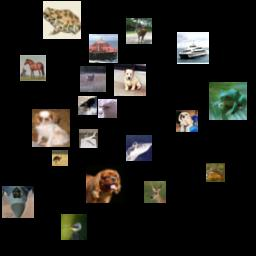airplane: (2, 186, 34, 218), (79, 129, 98, 148)
bird: (61, 214, 87, 240), (98, 99, 117, 118), (52, 150, 68, 166)
deer: (126, 18, 152, 44), (80, 66, 106, 92), (144, 181, 166, 203), (78, 96, 97, 115)
dog: (86, 165, 124, 203), (32, 109, 70, 147), (114, 64, 146, 96), (176, 110, 198, 132)
frog: (209, 82, 247, 120), (43, 1, 81, 39), (206, 163, 225, 182)
ship: (177, 32, 209, 64), (89, 34, 118, 63), (126, 135, 152, 161)
